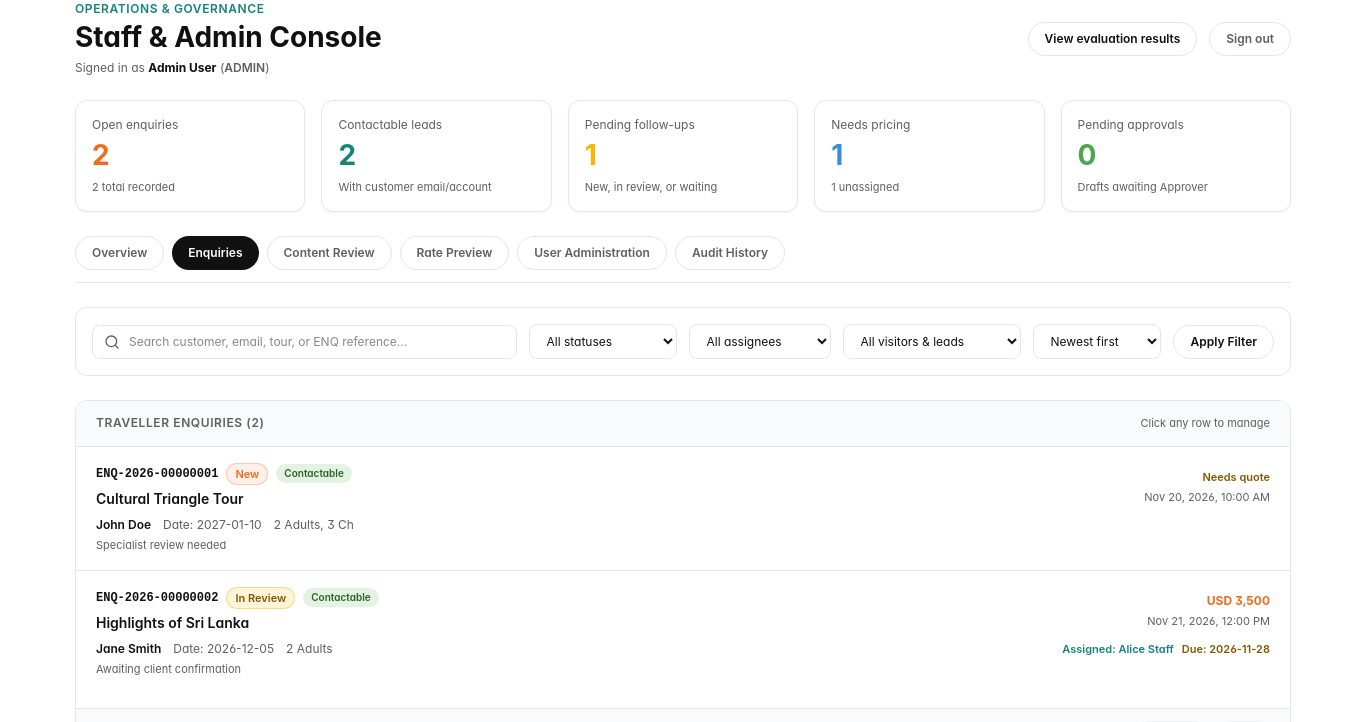
Test case: Staff Enquiry Management Layout and Scrolling Usability › opens enquiry detail into independent scroll panel without losing list context
expect the text "ENQ-2026-00000001" is shown: met, box [96,466,218,482]
Click the button "ENQ-2026-00000001".
click(683, 509)  # box [76,447,1290,571]
(page scrolled)
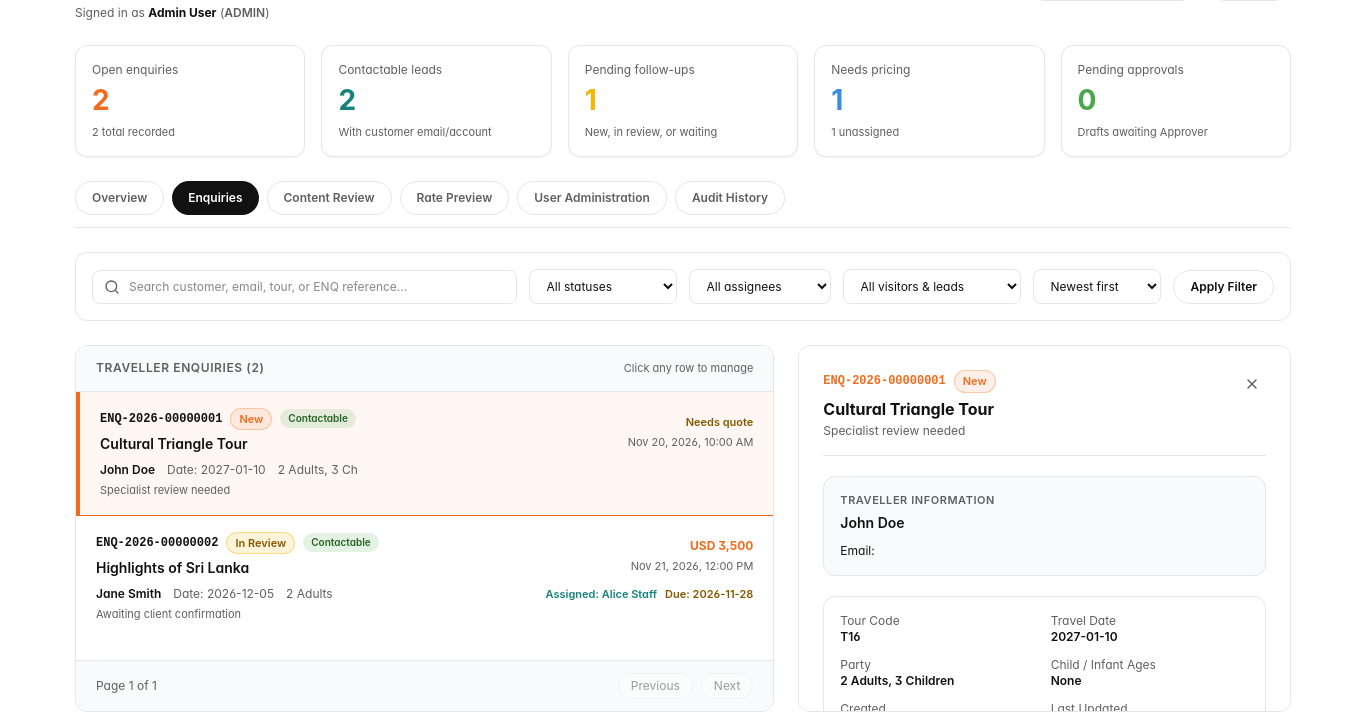
expect the element with class "staff-enquiry-detail" is shown: met, box [798,345,1291,712]
